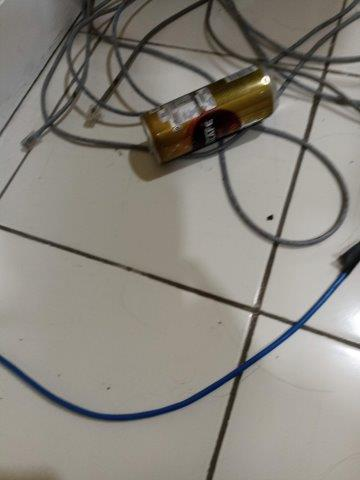kaleng: (140, 64, 279, 164)
